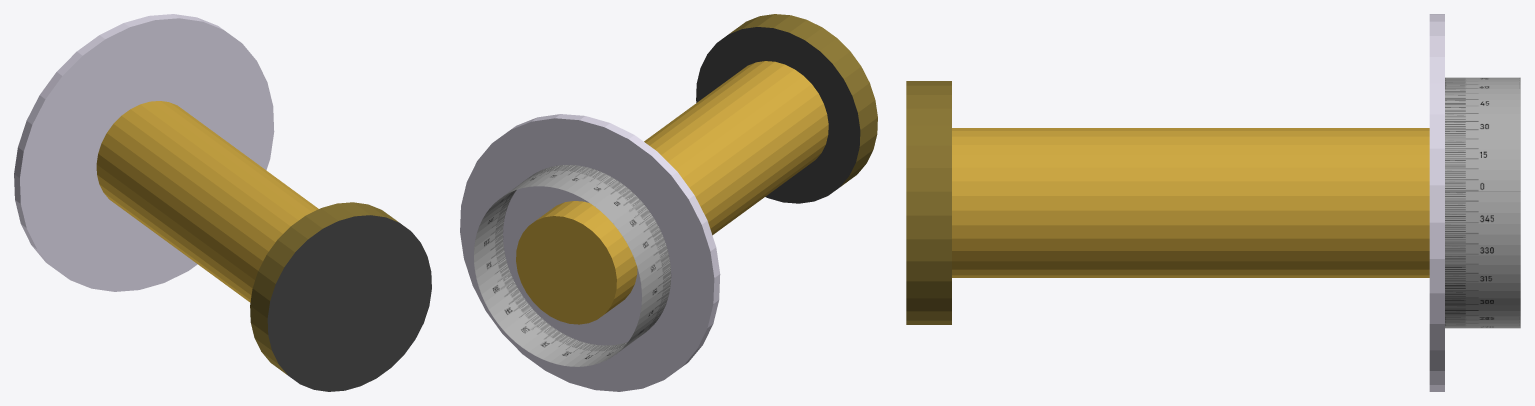
Rendered from Ручка (Шкала №1) v3.fbx.
3 views of the same model, side by side, from view 1: azimuth 30°, elevation 25°; view 2: azimuth 150°, elevation 25°; view 3: azimuth 270°, elevation 25° (orthographic). The views are drawn at different scales.
Visible parts, largest first — view 1: Шкала.001; view 2: Шкала.001; view 3: Шкала.001.
Part boxes in pixels (x1,y1,x2,y2): Шкала.001: (14,14,431,391); Шкала.001: (460,14,877,391); Шкала.001: (906,14,1520,391).
Size of the model in its own units: 7.52 by 7.52 by 12.18.
5 materials, 1 textured.
